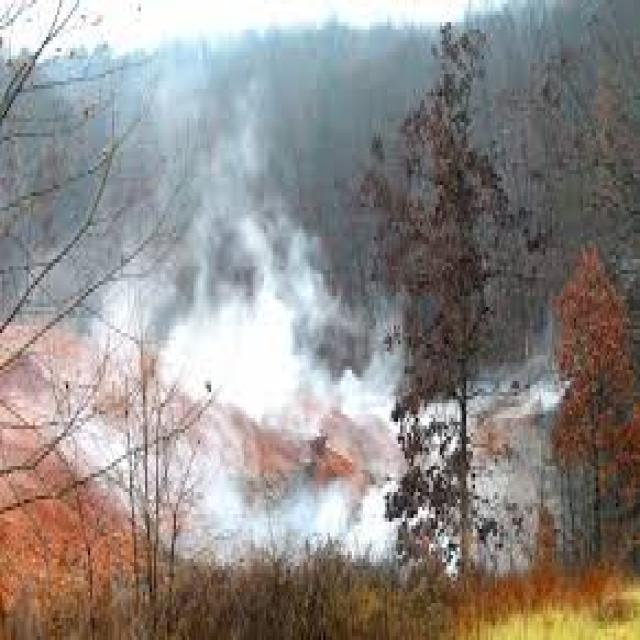Smoke: (57, 69, 570, 582)
